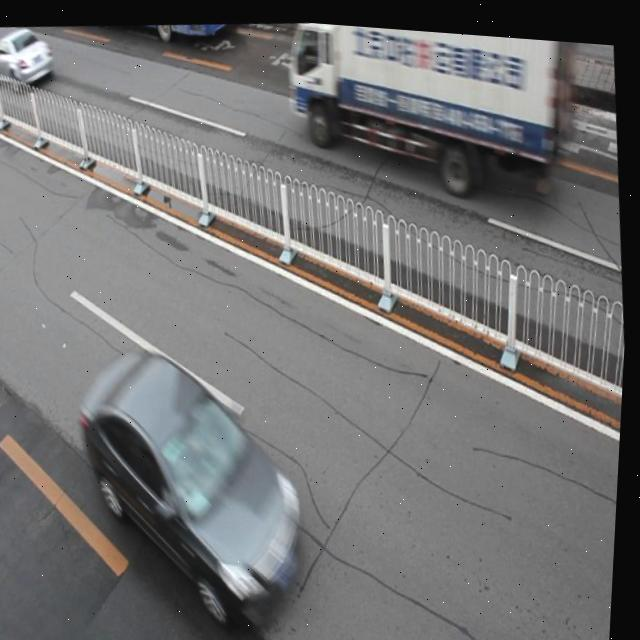bus: (281, 17, 581, 202)
car: (72, 332, 319, 625), (0, 23, 57, 94)
van: (23, 7, 243, 52)
